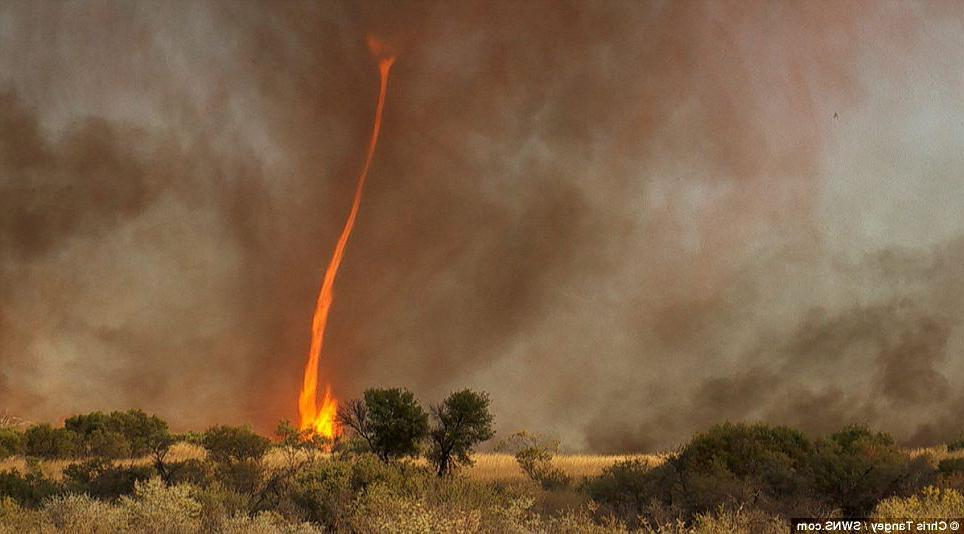smoke: (425, 7, 794, 426), (19, 7, 272, 443), (799, 259, 957, 447)
